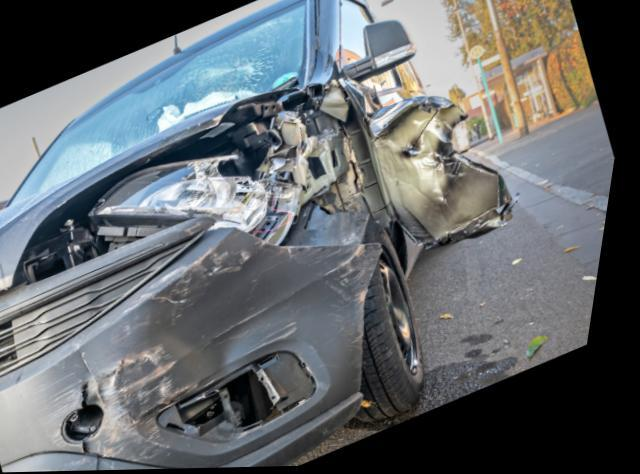dent: (170, 243, 370, 371), (379, 100, 500, 248)
glass shatter: (14, 1, 309, 207)
lamp broken: (88, 154, 275, 235)
no part: (20, 87, 393, 283), (170, 354, 328, 445)
scratch: (101, 346, 196, 471), (53, 371, 93, 454)
